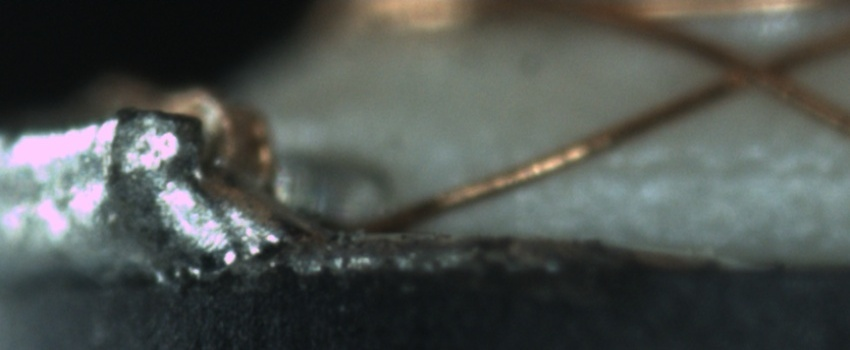CL: (712, 38, 803, 103)
DL: (527, 144, 850, 208)
TE: (159, 81, 286, 197)
